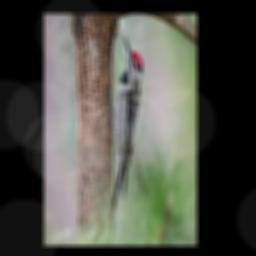Woodpecker: (112, 35, 142, 212)
